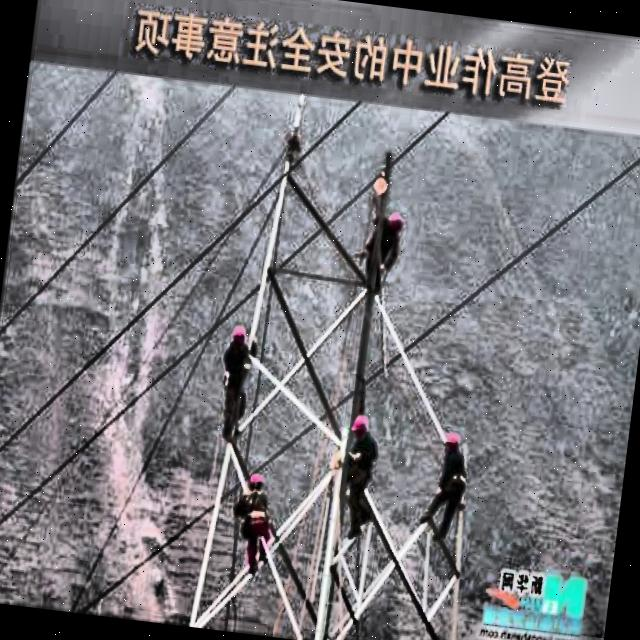helmet: (228, 325, 250, 355), (440, 429, 461, 460), (383, 210, 404, 240), (246, 468, 266, 499), (350, 414, 369, 444)
